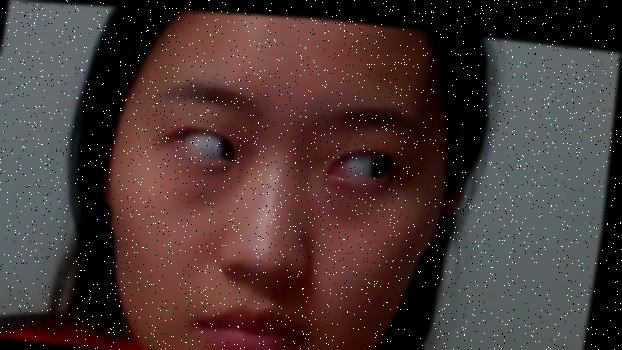eye: (371, 146, 405, 182), (220, 129, 251, 162)
iris: (329, 141, 399, 179), (179, 125, 241, 161)
